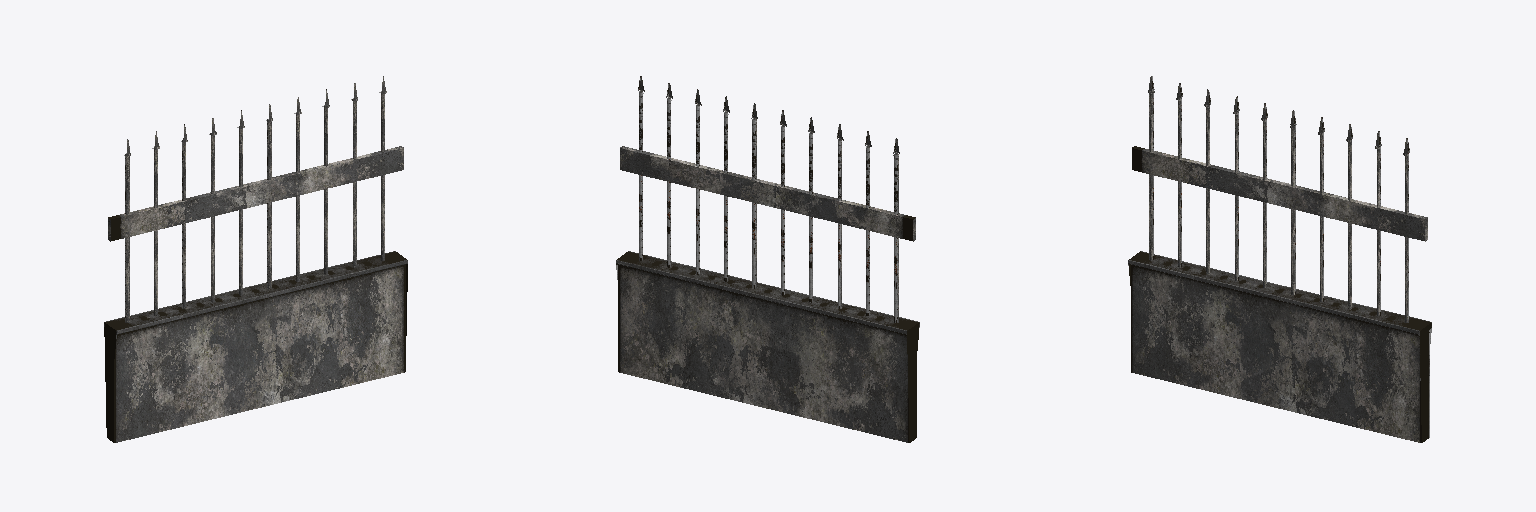
The picture shows the model from 3 angles: view 1: azimuth 30°, elevation 25°; view 2: azimuth 150°, elevation 25°; view 3: azimuth 330°, elevation 25°; orthographic projection.
Visible parts, largest first — view 1: 01_2; view 2: 01_2; view 3: 01_2.
Boxes of the visible parts, x1=… form: 01_2: x1=104, y1=76, x2=407, y2=442; 01_2: x1=616, y1=76, x2=919, y2=442; 01_2: x1=1128, y1=76, x2=1431, y2=442.
Size of the model in its own units: 4 by 3.88 by 0.3.
Materials: 1 (1 with a texture image).